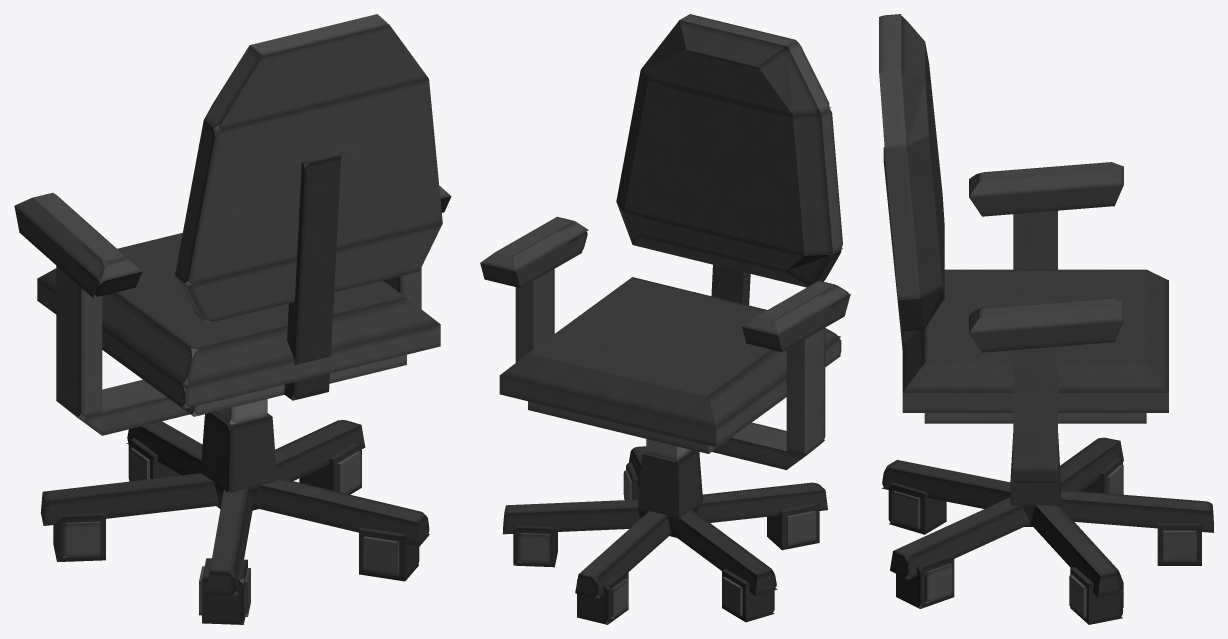
The model's file is office_chair.obj.
3 views of the same model, side by side, from view 1: azimuth 30°, elevation 25°; view 2: azimuth 150°, elevation 25°; view 3: azimuth 270°, elevation 25° (orthographic). The views are drawn at different scales.
Visible parts, largest first — view 1: bodyModel21, bodyModel27, bodyModel24, bodyModel3, bodyModel26, bodyModel0, bodyModel30, bodyModel6, bodyModel9, bodyModel4, bodyModel33, bodyModel29 (+16 smaller); view 2: bodyModel22, bodyModel27, bodyModel23, bodyModel25, bodyModel0, bodyModel30, bodyModel8, bodyModel4, bodyModel7, bodyModel6, bodyModel10, bodyModel28 (+18 smaller); view 3: bodyModel27, bodyModel28, bodyModel22, bodyModel0, bodyModel10, bodyModel9, bodyModel32, bodyModel33, bodyModel8, bodyModel7, bodyModel21, bodyModel24 (+20 smaller).
Part boxes in pixels (<box>): bodyModel21: <box>175,79,442,285</box>; bodyModel27: <box>37,233,440,386</box>; bodyModel24: <box>204,14,428,130</box>; bodyModel3: <box>284,153,341,400</box>; bodyModel26: <box>175,223,442,323</box>; bodyModel0: <box>37,279,440,408</box>; bodyModel30: <box>56,266,102,418</box>; bodyModel6: <box>40,473,219,525</box>; bodyModel9: <box>253,477,429,546</box>; bodyModel4: <box>200,412,277,492</box>; bodyModel33: <box>15,192,142,281</box>; bodyModel29: <box>58,379,189,435</box>; bodyModel22: <box>616,70,832,255</box>; bodyModel27: <box>500,277,840,428</box>; bodyModel23: <box>641,20,820,115</box>; bodyModel25: <box>616,202,830,287</box>; bodyModel0: <box>499,337,841,446</box>; bodyModel30: <box>786,328,825,455</box>; bodyModel8: <box>502,499,641,534</box>; bodyModel4: <box>638,450,702,520</box>; bodyModel7: <box>697,482,827,522</box>; bodyModel6: <box>672,509,777,595</box>; bodyModel10: <box>575,511,671,598</box>; bodyModel28: <box>515,269,554,362</box>; bodyModel27: <box>902,269,1168,392</box>; bodyModel28: <box>1013,346,1057,471</box>; bodyModel22: <box>907,64,942,298</box>; bodyModel0: <box>902,393,1168,412</box>; bodyModel10: <box>1061,490,1213,532</box>; bodyModel9: <box>890,497,1030,579</box>; bodyModel32: <box>969,298,1123,333</box>; bodyModel33: <box>969,162,1123,197</box>; bodyModel8: <box>1030,505,1123,597</box>; bodyModel7: <box>882,460,1010,508</box>; bodyModel21: <box>885,149,920,300</box>; bodyModel24: <box>879,14,906,150</box>.
Size of the model in its own units: 1.03 by 1.6 by 0.943.
Materials: 1 (1 with a texture image).
